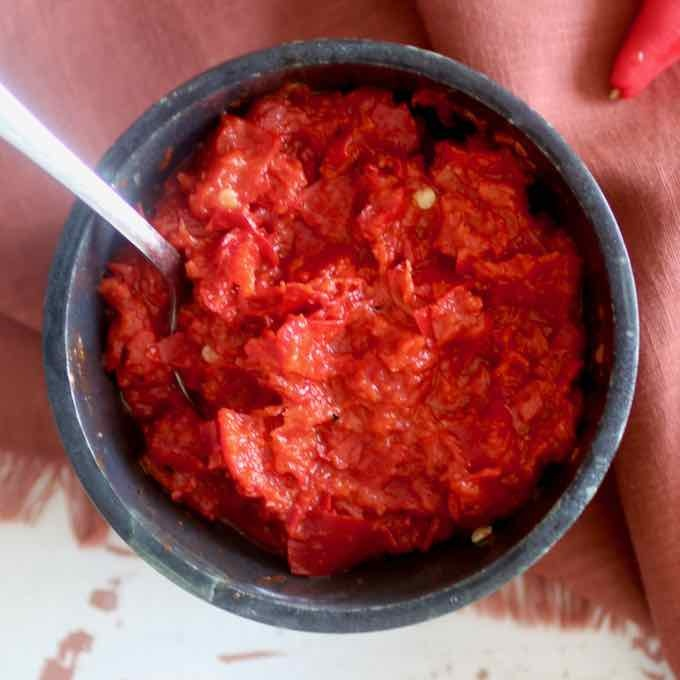sambal: (94, 88, 583, 581)
